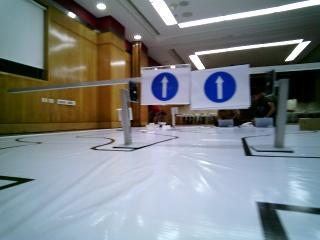straight: (195, 71, 247, 105), (141, 68, 189, 104)
